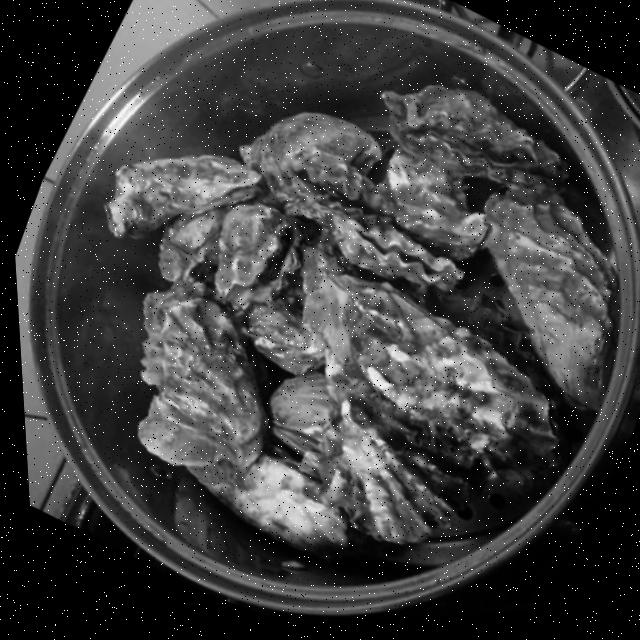Oyster-Closed: (360, 50, 591, 220)
Oyster-Indeterminate: (249, 232, 601, 506), (80, 259, 316, 501), (419, 168, 640, 424), (296, 393, 500, 572), (167, 416, 371, 573), (90, 115, 271, 285), (229, 81, 393, 218), (364, 141, 506, 263), (143, 185, 239, 294)
Oyster-Open: (314, 196, 476, 314), (188, 189, 317, 330), (266, 132, 411, 244)
